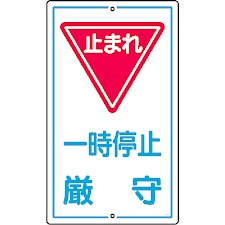Regulatory_sign_triangle: (57, 20, 165, 119)
